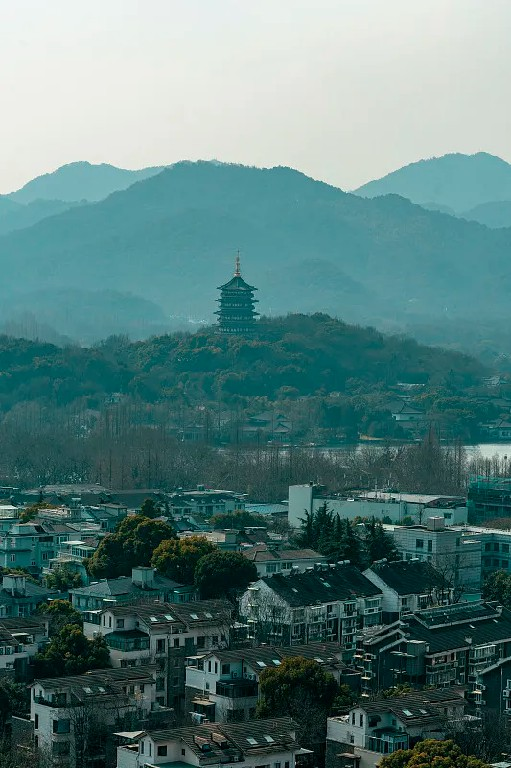Leifeng: (214, 249, 260, 339)
